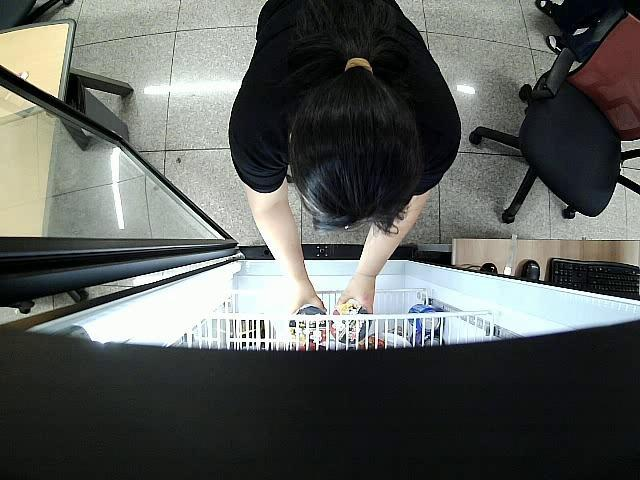08_buldak_S: (333, 302, 370, 344), (291, 306, 327, 346)
